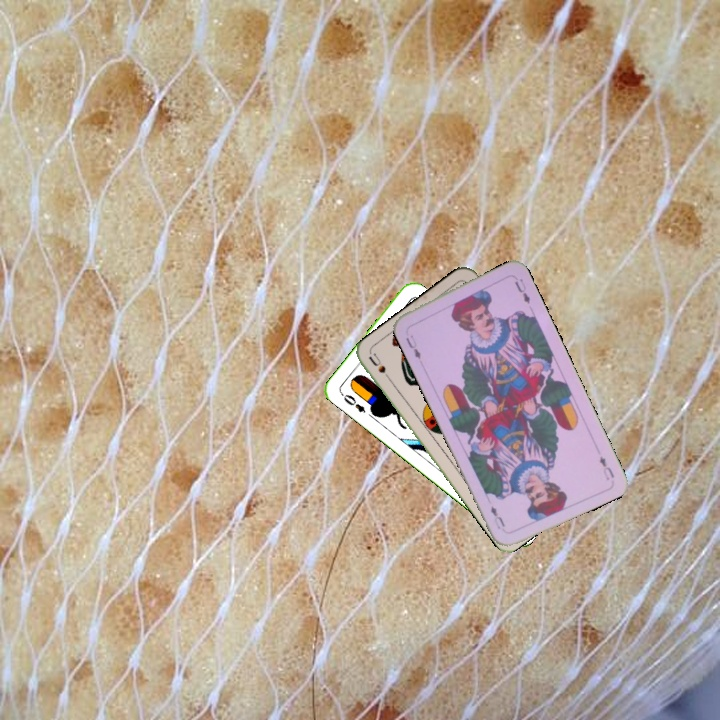EO: (337, 388, 368, 415)
EU: (595, 452, 617, 483), (402, 331, 423, 362)
SU: (365, 349, 396, 386)
